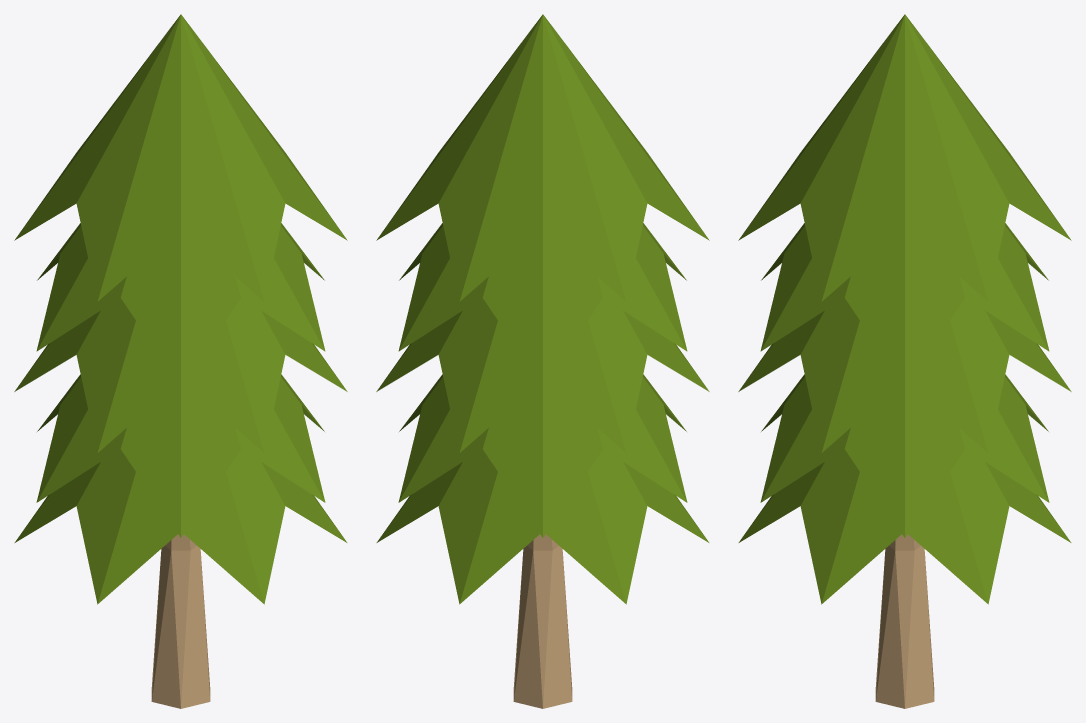
The model's file is wide_leaf_pine_medium.fbx.
The picture shows the model from 3 angles, left to right: view 1: azimuth 30°, elevation 25°; view 2: azimuth 150°, elevation 25°; view 3: azimuth 270°, elevation 25°; orthographic projection.
Parts seen in each view (by area): view 1: C-leaves.001, C-leaves, C-leaves.004, C-leaves.003, C-leaves.002, G-Object.001; view 2: C-leaves.001, C-leaves, C-leaves.004, C-leaves.003, C-leaves.002, G-Object.001; view 3: C-leaves.001, C-leaves, C-leaves.004, C-leaves.003, C-leaves.002, G-Object.001.
Part boxes in pixels (<box>): C-leaves.001: <box>14,14,347,301</box>; C-leaves: <box>14,298,347,452</box>; C-leaves.004: <box>14,449,347,604</box>; C-leaves.003: <box>36,223,325,386</box>; C-leaves.002: <box>36,374,325,537</box>; G-Object.001: <box>151,534,210,708</box>; C-leaves.001: <box>376,14,709,301</box>; C-leaves: <box>376,298,709,452</box>; C-leaves.004: <box>376,449,709,604</box>; C-leaves.003: <box>398,223,687,386</box>; C-leaves.002: <box>398,374,687,537</box>; G-Object.001: <box>513,534,572,708</box>; C-leaves.001: <box>738,14,1071,301</box>; C-leaves: <box>738,298,1071,452</box>; C-leaves.004: <box>738,449,1071,604</box>; C-leaves.003: <box>760,223,1049,386</box>; C-leaves.002: <box>760,374,1049,537</box>; G-Object.001: <box>875,534,934,708</box>.
Bounding box in the file's own units: 400 × 900 × 400.
